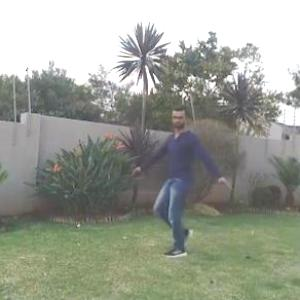land: (126, 92, 241, 280)
